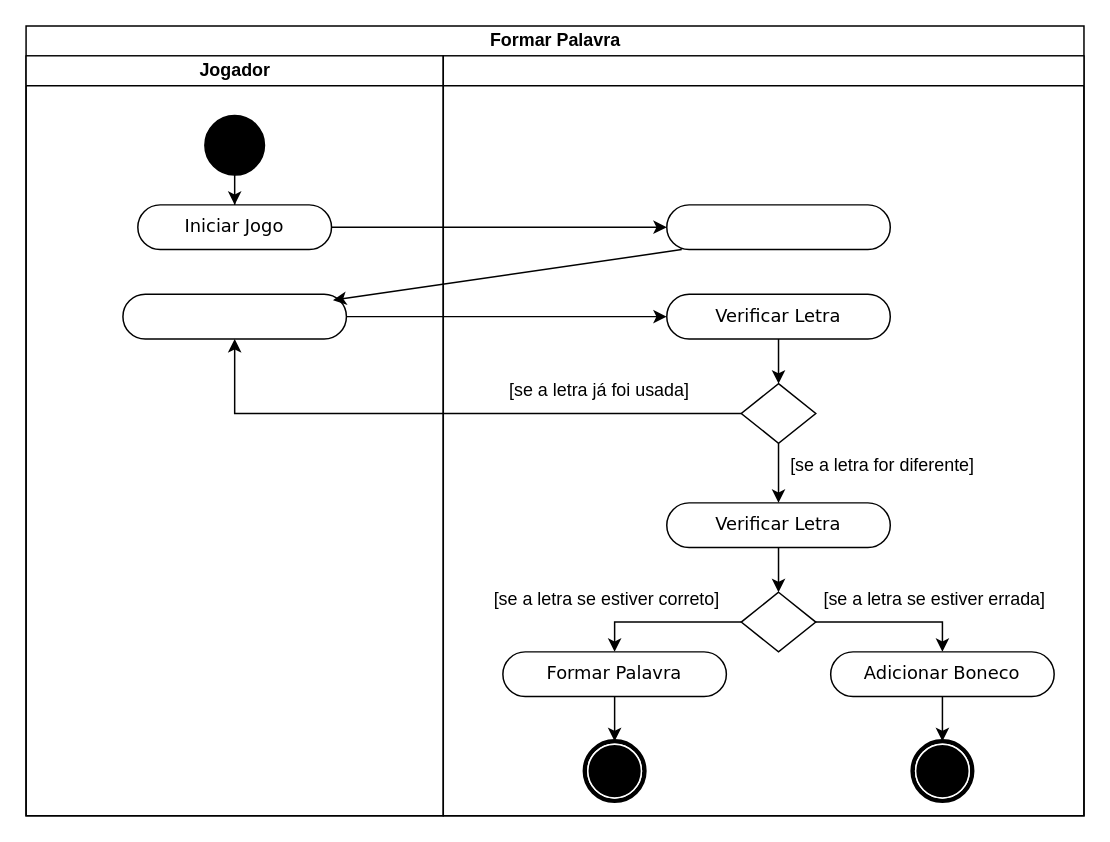
The diagram is 1110 pixels wide and 842 high, and some of its shapes have lost their labels. Here are the shapes that lost their labels. From the top down, the box of each, then its label:
(665, 203, 890, 250): Gerar Palavra
(121, 293, 346, 339): Escolher Letra
(442, 54, 1084, 816): PC
